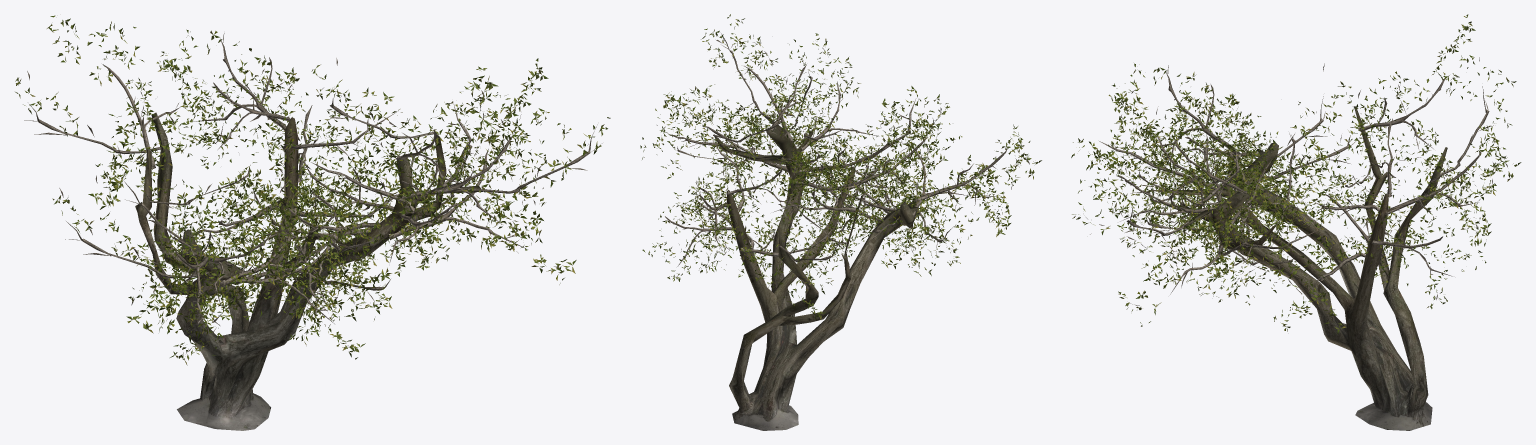
Rendered from island_tree_02.glb.
The picture shows the model from 3 angles, left to right: view 1: azimuth 30°, elevation 25°; view 2: azimuth 150°, elevation 25°; view 3: azimuth 270°, elevation 25°; orthographic projection. The views are drawn at different scales.
Parts seen in each view (by area): view 1: island_tree_02_LOD0; view 2: island_tree_02_LOD0; view 3: island_tree_02_LOD0.
Part boxes in pixels (left/top/right/bottom): island_tree_02_LOD0: left=15, top=15, right=610, bottom=430; island_tree_02_LOD0: left=640, top=14, right=1041, bottom=430; island_tree_02_LOD0: left=1071, top=14, right=1521, bottom=430.
Bounding box in the file's own units: 3.87 × 3.4 × 4.03.
Materials: 3 (3 with a texture image).
